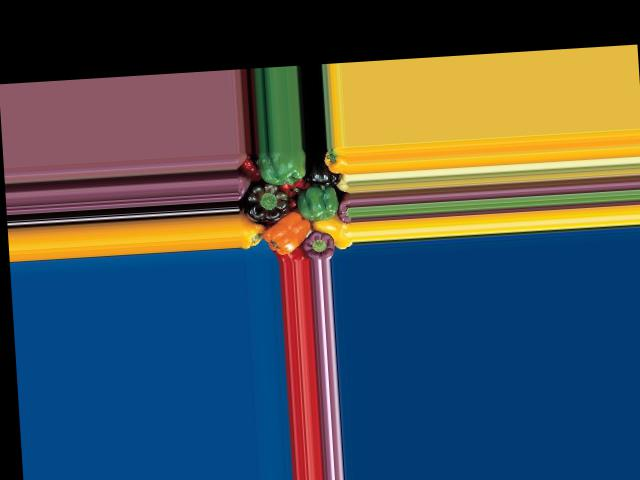bell_pepper: (255, 148, 305, 182)
